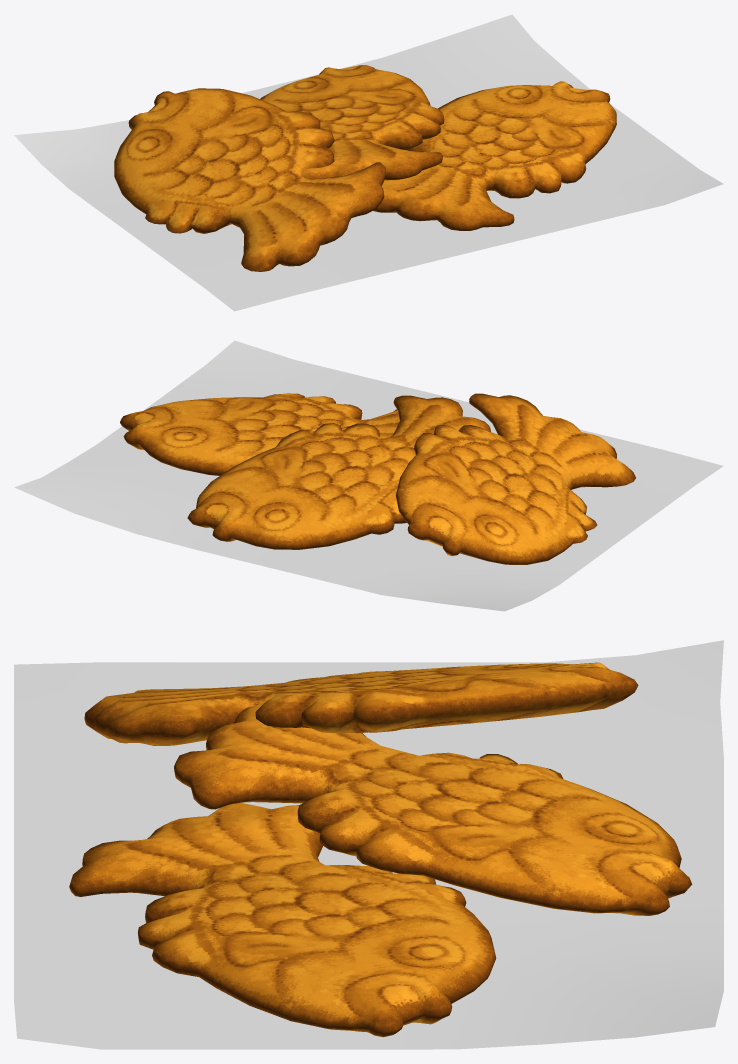
Rendered from fish.glb.
3 views of the same model, one above another, from view 1: azimuth 30°, elevation 25°; view 2: azimuth 150°, elevation 25°; view 3: azimuth 270°, elevation 25° (orthographic). The views are drawn at different scales.
Visible parts, largest first — view 1: Plane_0, fish_shaped_bun_01 - Default_0.002, fish_shaped_bun_01 - Default_0.001, fish_shaped_bun; view 2: Plane_0, fish_shaped_bun_01 - Default_0.002, fish_shaped_bun, fish_shaped_bun_01 - Default_0.001; view 3: Plane_0, fish_shaped_bun_01 - Default_0.001, fish_shaped_bun, fish_shaped_bun_01 - Default_0.002.
Boxes of the visible parts, box(x1,y1,x2,y2) form: Plane_0: box(14, 14, 723, 311); fish_shaped_bun_01 - Default_0.002: box(114, 88, 385, 271); fish_shaped_bun_01 - Default_0.001: box(373, 81, 616, 230); fish_shaped_bun: box(260, 65, 444, 180); Plane_0: box(14, 340, 723, 611); fish_shaped_bun_01 - Default_0.002: box(396, 393, 635, 564); fish_shaped_bun: box(187, 395, 506, 549); fish_shaped_bun_01 - Default_0.001: box(120, 393, 399, 475); Plane_0: box(14, 640, 723, 1049); fish_shaped_bun_01 - Default_0.001: box(69, 802, 496, 1037); fish_shaped_bun: box(174, 703, 692, 915); fish_shaped_bun_01 - Default_0.002: box(84, 662, 638, 745).
Size of the model in its own units: 2.67 by 0.3762 by 2.06.
Materials: 2 (1 with a texture image).
